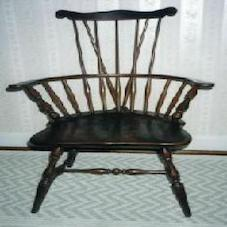chair: (7, 4, 211, 216)
